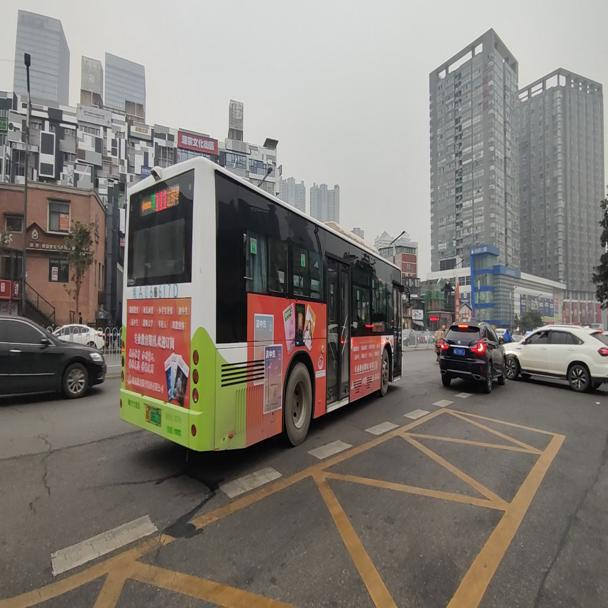bus: (114, 153, 413, 459)
screen: (152, 186, 167, 212)
